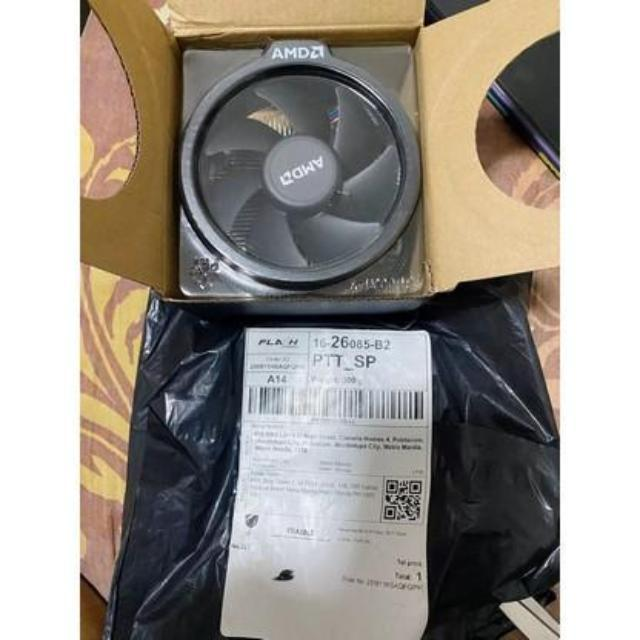CPU_Fan: (182, 41, 424, 296)
